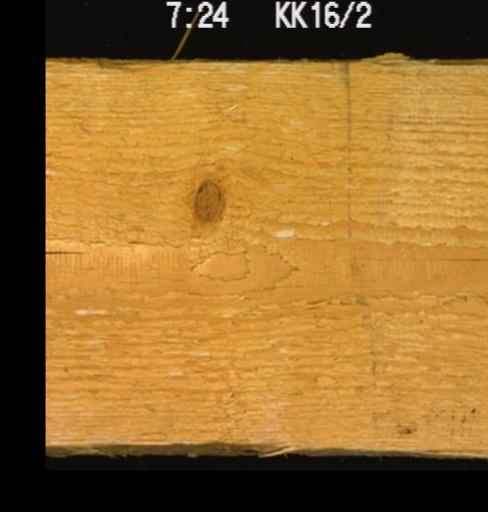sound_knot: (189, 176, 226, 225)
split: (45, 237, 101, 257)
wave: (52, 431, 297, 456)
